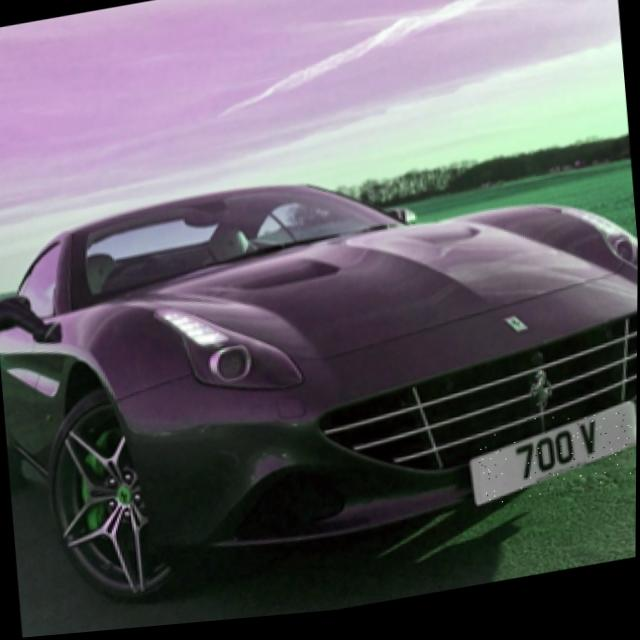license_plate: (476, 410, 637, 515)
